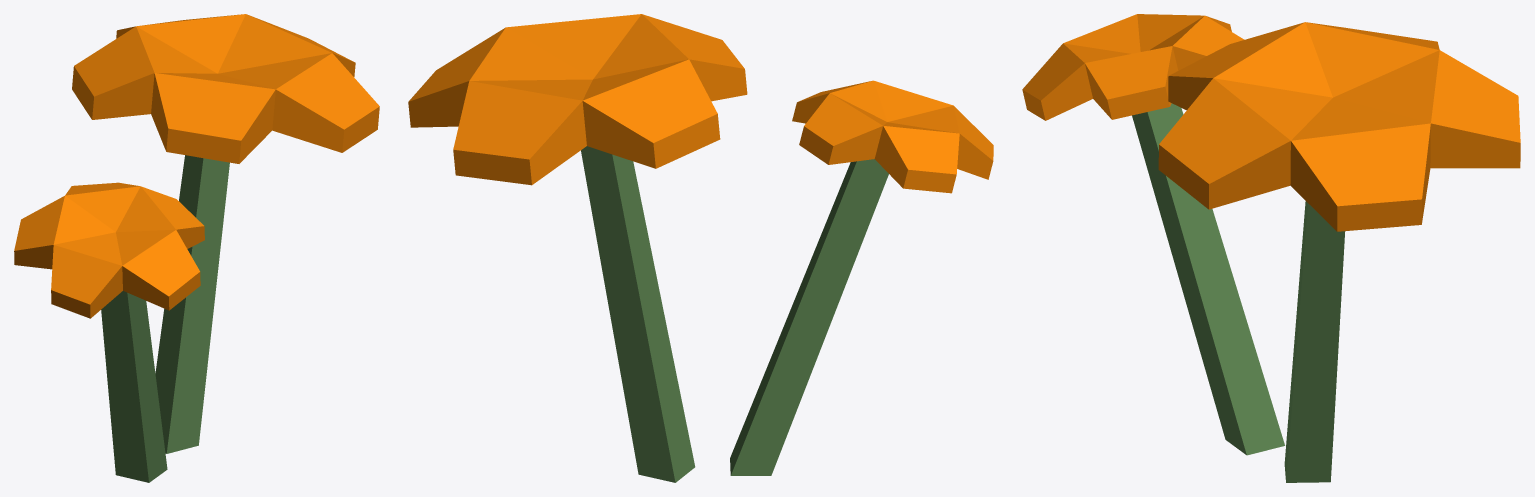
The model's file is flower_7.fbx.
3 renders of one model, left to right at view 1: azimuth 30°, elevation 25°; view 2: azimuth 150°, elevation 25°; view 3: azimuth 270°, elevation 25°, orthographic. The views are drawn at different scales.
Visible parts, largest first — view 1: flower_007; view 2: flower_007; view 3: flower_007.
Boxes of the visible parts, x1,y1,x2,y2 form: flower_007: (14, 14, 379, 482); flower_007: (408, 14, 993, 482); flower_007: (1022, 14, 1520, 482).
Bounding box in the file's own units: 0.0569 × 0.0503 × 0.0516.
1 material, 1 textured.
